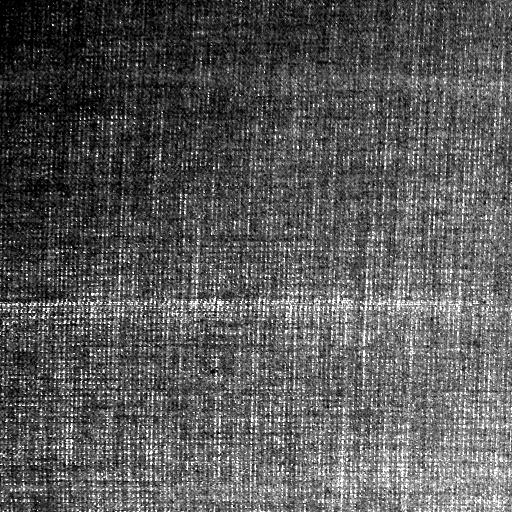fabric_missing_pick: (7, 298, 461, 322)
